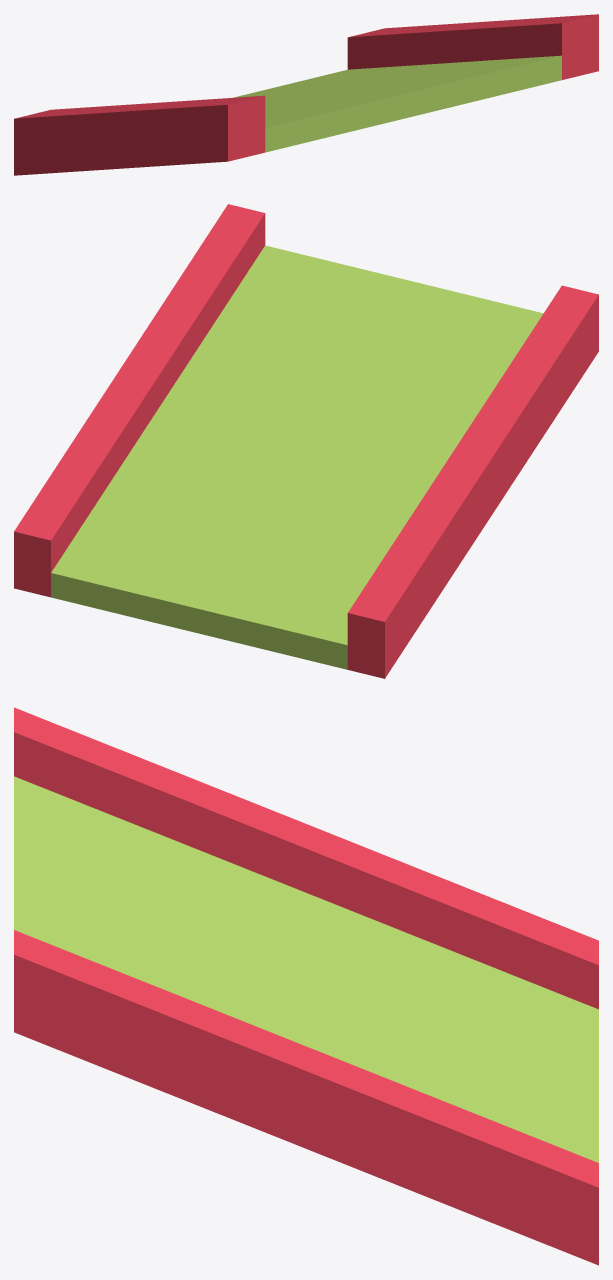
The model's file is rampC.fbx.
3 views of the same model, one above another, from view 1: azimuth 30°, elevation 25°; view 2: azimuth 150°, elevation 25°; view 3: azimuth 270°, elevation 25° (orthographic). The views are drawn at different scales.
Parts seen in each view (by area): view 1: rampC; view 2: rampC; view 3: rampC.
Part boxes in pixels (left/top/right/bottom): rampC: left=14, top=14, right=598, bottom=175; rampC: left=14, top=204, right=598, bottom=678; rampC: left=14, top=707, right=598, bottom=1265.
Bounding box in the file's own units: 10 × 5.87 × 10.
